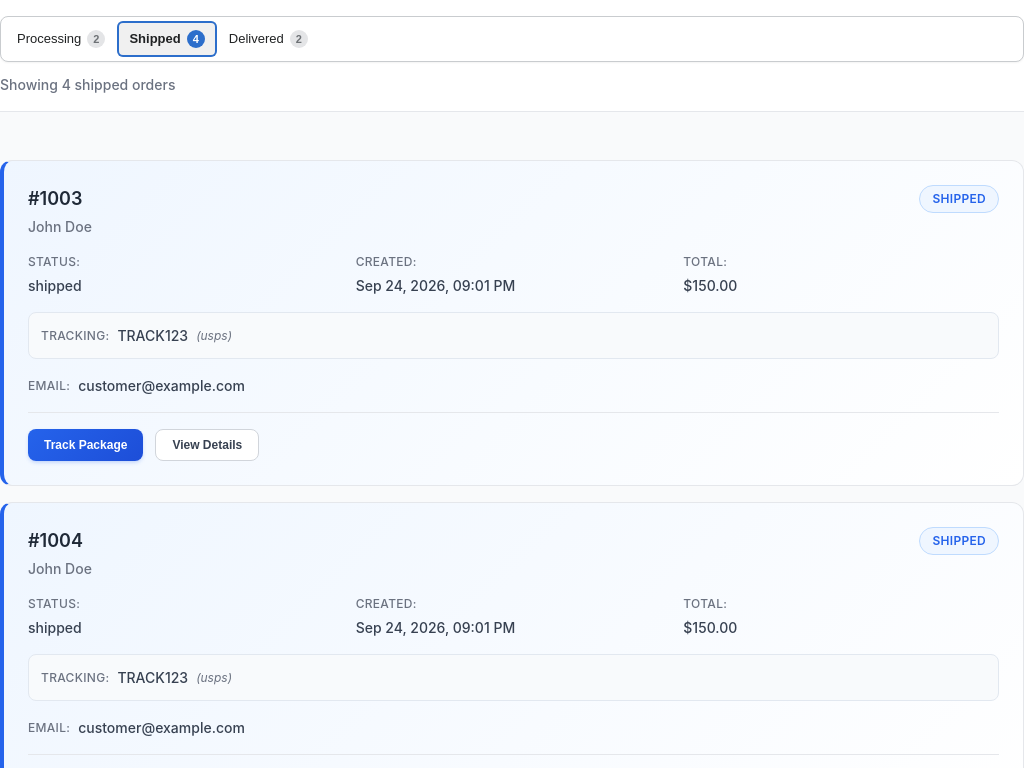
Test case: OrdersTab Component › Filter Summary Text › should update summary when switching tabs
Expected: the text "Showing 4 shipped orders" is shown, [0, 76, 175, 93]
// Click Processing tab
Click the text "Processing" at (49, 39), box [17, 29, 81, 49]
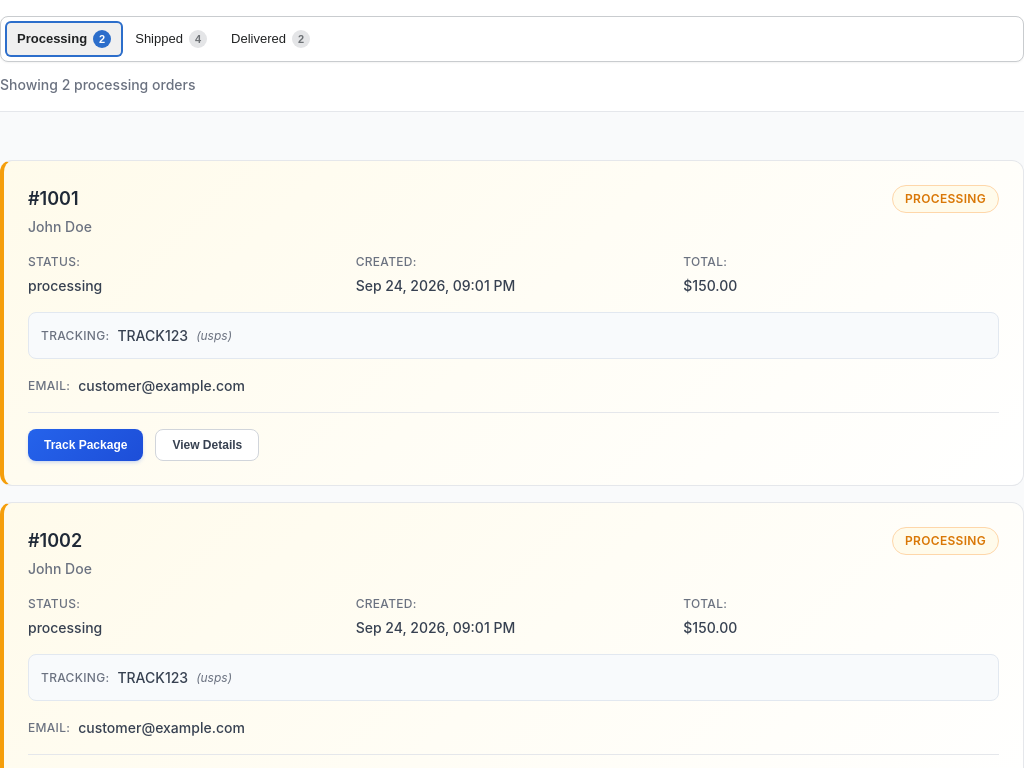
Now the text "Showing 2 processing orders" is shown, box [0, 76, 196, 93]
// Click Delivered tab
Click the text "Delivered" at (259, 39), box [231, 29, 286, 49]
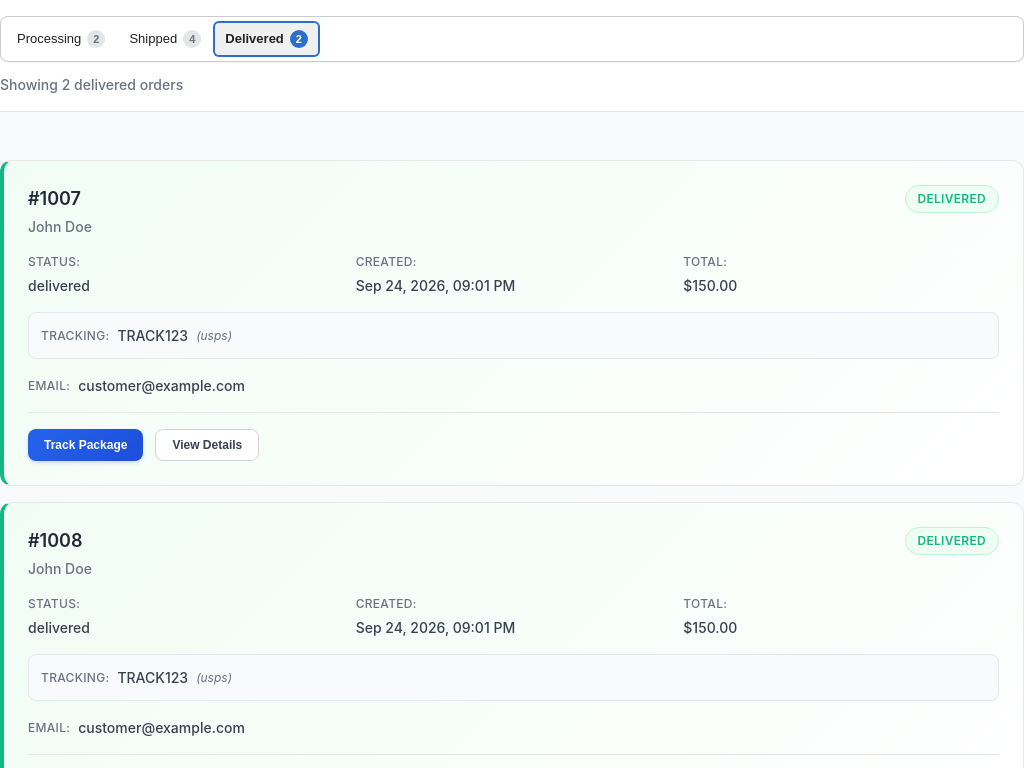
Now the text "Showing 2 delivered orders" is shown, box [0, 76, 183, 93]
